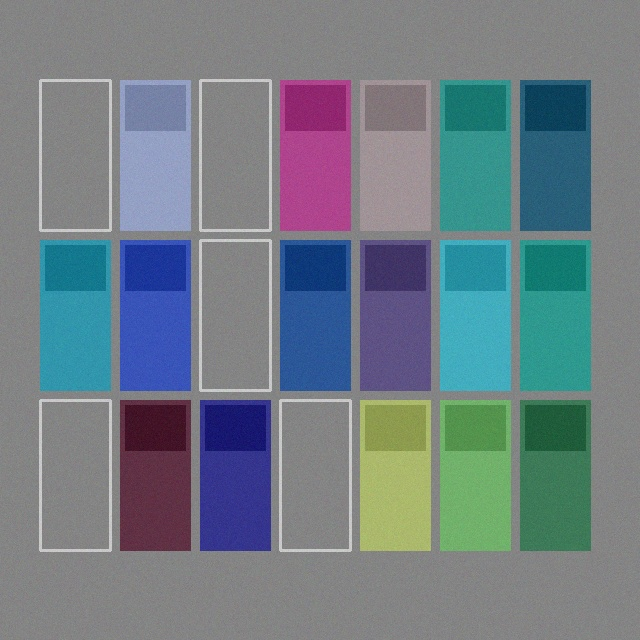space-empty: (40, 80, 110, 230), (200, 80, 270, 230), (200, 240, 270, 390), (40, 400, 110, 550), (280, 400, 350, 550)
space-occupied: (120, 80, 190, 230), (280, 80, 350, 230), (360, 80, 430, 230), (440, 80, 510, 230), (520, 80, 590, 230), (40, 240, 110, 390), (120, 240, 190, 390), (280, 240, 350, 390), (360, 240, 430, 390), (440, 240, 510, 390), (520, 240, 590, 390), (120, 400, 190, 550), (200, 400, 270, 550), (360, 400, 430, 550), (440, 400, 510, 550), (520, 400, 590, 550)
